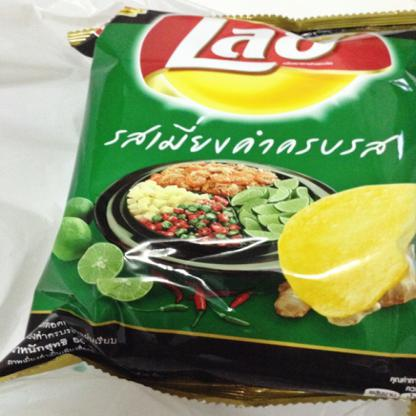potatochip: (0, 3, 415, 414)
